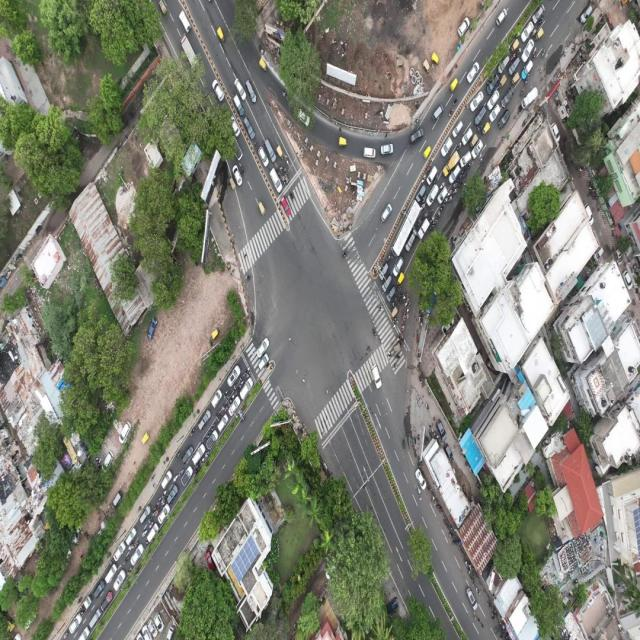3W: (418, 219, 430, 238), (338, 134, 348, 150), (216, 25, 225, 41), (509, 39, 519, 53), (158, 0, 168, 14), (535, 28, 545, 41), (258, 200, 266, 216), (422, 145, 431, 158), (210, 328, 219, 340), (511, 72, 520, 84), (259, 57, 266, 72), (423, 59, 430, 74), (450, 76, 457, 91), (276, 144, 283, 159), (471, 132, 478, 146), (391, 306, 398, 320), (142, 432, 150, 444), (431, 51, 438, 64), (500, 74, 506, 88), (398, 272, 404, 286), (228, 177, 234, 190), (393, 342, 400, 352)
Bus: (391, 201, 422, 258)
Cars: (212, 79, 228, 104), (522, 86, 538, 108), (246, 78, 259, 105), (131, 542, 144, 568), (265, 138, 278, 164), (270, 167, 283, 193), (415, 466, 427, 493), (244, 115, 256, 140), (234, 78, 247, 101), (522, 38, 534, 62), (101, 451, 114, 473), (233, 93, 246, 115), (466, 61, 479, 83), (520, 21, 534, 41), (228, 364, 240, 387), (198, 408, 210, 431), (532, 3, 545, 24), (146, 524, 160, 543), (120, 422, 132, 444), (193, 444, 205, 466), (257, 336, 269, 358), (502, 87, 514, 109), (113, 540, 125, 562), (426, 166, 439, 186), (498, 109, 511, 129), (166, 485, 179, 505), (406, 228, 417, 251), (228, 395, 240, 416), (470, 91, 483, 110), (206, 430, 218, 450), (414, 186, 426, 206), (90, 608, 102, 628), (393, 258, 405, 278), (521, 60, 533, 80), (158, 503, 170, 523), (440, 138, 453, 156), (486, 91, 499, 109), (161, 467, 172, 488), (148, 318, 158, 341), (106, 562, 116, 585), (372, 365, 382, 388), (181, 467, 193, 486), (448, 164, 460, 183), (458, 17, 470, 36), (489, 104, 501, 123), (486, 74, 498, 93), (93, 579, 105, 598), (363, 144, 376, 161), (101, 590, 112, 610), (241, 378, 252, 398), (114, 570, 125, 590), (281, 194, 291, 216), (472, 138, 483, 158), (232, 166, 242, 188), (229, 115, 239, 137), (258, 354, 270, 372), (432, 104, 444, 122), (70, 615, 82, 633), (112, 490, 123, 509), (182, 444, 193, 463), (496, 7, 507, 26), (381, 141, 394, 157), (410, 126, 423, 142), (508, 58, 520, 75), (382, 274, 392, 294), (212, 389, 222, 409), (218, 414, 229, 432), (460, 150, 471, 168), (475, 107, 486, 125), (139, 504, 150, 522), (436, 186, 446, 205), (462, 127, 472, 146), (381, 203, 392, 220), (452, 119, 463, 136), (259, 149, 268, 169), (126, 526, 136, 544), (498, 56, 509, 72), (379, 262, 388, 280), (386, 286, 395, 302)
LCV: (443, 152, 460, 175), (178, 8, 190, 33), (80, 597, 92, 616)
M2W: (240, 165, 247, 175), (531, 27, 537, 38), (190, 428, 197, 437), (141, 528, 148, 537), (449, 107, 454, 119), (540, 49, 546, 59), (539, 15, 545, 25), (342, 249, 348, 259), (176, 450, 182, 460), (154, 506, 160, 516), (123, 554, 129, 564), (439, 181, 446, 189), (433, 173, 438, 184), (394, 352, 400, 361), (210, 422, 216, 431), (156, 494, 162, 503), (64, 631, 70, 640), (373, 328, 377, 341), (286, 154, 290, 167), (430, 221, 435, 231), (405, 296, 410, 306), (406, 302, 411, 312), (397, 333, 402, 343), (173, 472, 178, 482), (456, 174, 462, 182), (147, 520, 153, 528), (282, 175, 286, 187), (434, 218, 439, 227), (401, 324, 406, 333), (224, 402, 229, 411), (290, 189, 294, 200), (425, 165, 431, 172), (393, 321, 399, 328), (215, 414, 221, 421), (161, 490, 167, 497), (132, 540, 138, 547), (386, 252, 391, 260), (532, 49, 536, 59), (417, 218, 422, 226), (402, 312, 407, 320), (245, 366, 250, 374), (230, 393, 234, 403), (205, 448, 209, 458), (179, 467, 184, 475), (195, 467, 200, 475), (161, 496, 165, 506), (128, 541, 132, 551), (128, 566, 132, 576), (280, 165, 284, 175), (285, 174, 289, 184), (453, 97, 457, 106), (462, 172, 468, 178), (403, 294, 409, 300), (416, 333, 419, 345), (388, 349, 392, 358), (153, 504, 157, 513), (517, 48, 522, 55), (429, 208, 434, 215), (440, 203, 445, 210), (458, 181, 463, 188), (390, 301, 395, 308), (378, 304, 383, 311), (226, 390, 231, 397), (221, 404, 226, 411), (206, 431, 211, 438), (147, 515, 152, 522), (424, 211, 428, 219), (437, 210, 441, 218), (444, 197, 448, 205), (449, 194, 453, 202), (224, 389, 228, 397), (201, 436, 205, 444), (284, 166, 288, 174), (510, 55, 515, 61), (430, 215, 433, 225), (453, 183, 458, 189), (466, 164, 471, 170), (398, 293, 404, 298), (448, 190, 452, 197), (453, 188, 457, 195), (240, 380, 244, 387), (234, 388, 238, 395), (215, 409, 219, 416), (276, 168, 280, 175), (399, 299, 403, 305), (232, 383, 235, 390), (201, 457, 204, 464), (462, 169, 466, 174), (393, 297, 398, 301), (246, 373, 251, 377), (240, 374, 242, 380)
MAV: (181, 34, 197, 66)
